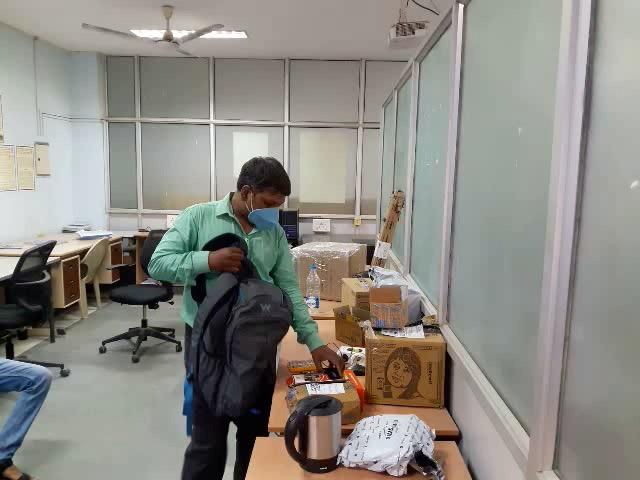shoplifting: (147, 237, 401, 442)
